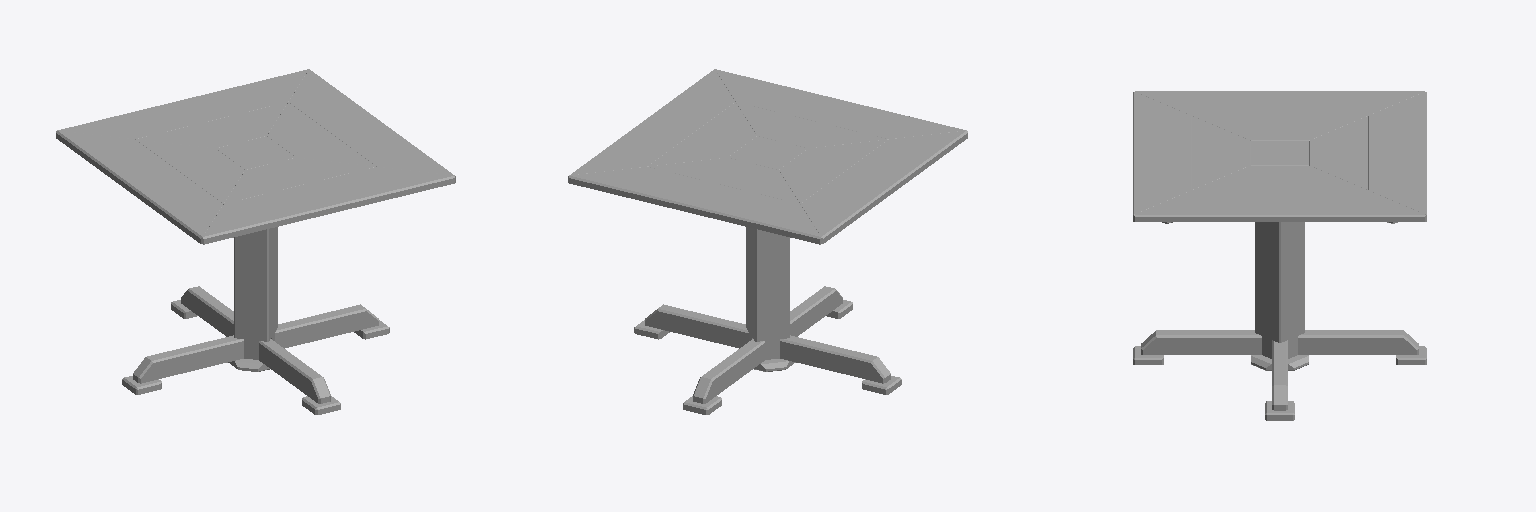
Rendered from table.obj.
3 views of the same model, side by side, from view 1: azimuth 30°, elevation 25°; view 2: azimuth 150°, elevation 25°; view 3: azimuth 270°, elevation 25° (orthographic).
Parts seen in each view (by area): view 1: Solid1_24, Solid1_25, Solid1_23, Solid1_26, Solid1_2, Solid1, Solid1_3, Solid1_21, Solid1_20, Solid1_22, Solid1_19, Solid1_18; view 2: Solid1_23, Solid1_25, Solid1_24, Solid1_26, Solid1_2, Solid1, Solid1_3, Solid1_21, Solid1_22, Solid1_20, Solid1_19, Solid1_18; view 3: Solid1_26, Solid1, Solid1_25, Solid1_23, Solid1_24, Solid1_3, Solid1_20, Solid1_22, Solid1_21, Solid1_19, Solid1_18, Solid1_2 (+1 smaller).
Boxes of the visible parts, <box> form: Solid1_24: <box>203,167,455,244</box>; Solid1_25: <box>56,131,222,243</box>; Solid1_23: <box>57,69,308,138</box>; Solid1_26: <box>289,69,454,175</box>; Solid1_2: <box>133,304,378,383</box>; Solid1: <box>234,227,277,359</box>; Solid1_3: <box>181,286,330,403</box>; Solid1_21: <box>135,139,244,203</box>; Solid1_20: <box>136,102,287,147</box>; Solid1_22: <box>224,158,374,203</box>; Solid1_19: <box>267,102,375,166</box>; Solid1_18: <box>216,136,295,169</box>; Solid1_23: <box>568,167,820,244</box>; Solid1_25: <box>801,131,967,243</box>; Solid1_24: <box>715,69,966,138</box>; Solid1_26: <box>569,69,734,175</box>; Solid1_2: <box>645,304,890,383</box>; Solid1: <box>746,227,789,359</box>; Solid1_3: <box>693,286,842,403</box>; Solid1_21: <box>779,139,888,203</box>; Solid1_22: <box>736,102,887,147</box>; Solid1_20: <box>649,158,799,203</box>; Solid1_19: <box>648,102,756,166</box>; Solid1_18: <box>728,136,807,169</box>; Solid1_26: <box>1134,190,1425,221</box>; Solid1: <box>1255,222,1304,358</box>; Solid1_25: <box>1135,91,1424,115</box>; Solid1_23: <box>1368,92,1426,221</box>; Solid1_24: <box>1133,92,1191,221</box>; Solid1_3: <box>1141,330,1418,354</box>; Solid1_20: <box>1309,116,1367,189</box>; Solid1_22: <box>1192,116,1250,189</box>; Solid1_21: <box>1193,116,1366,140</box>; Solid1_19: <box>1194,166,1365,189</box>; Solid1_18: <box>1251,141,1308,165</box>; Solid1_2: <box>1272,340,1287,410</box>.
Bounding box in the file's own units: 975 × 752 × 975.